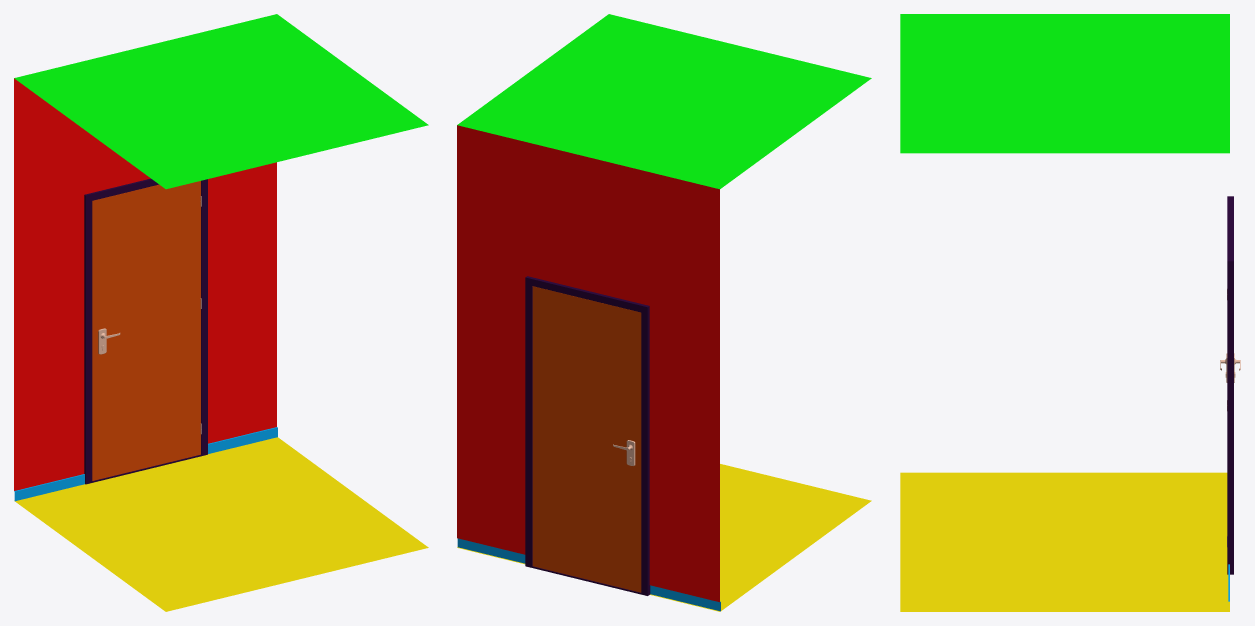
Rendered from SM_Door_Frame_A.FBX.
3 renders of one model, left to right at view 1: azimuth 30°, elevation 25°; view 2: azimuth 150°, elevation 25°; view 3: azimuth 270°, elevation 25°, orthographic. The views are drawn at different scales.
Visible parts, largest first — view 1: SM_Door_Frame_A, SM_Door_A; view 2: SM_Door_Frame_A, SM_Door_A; view 3: SM_Door_Frame_A.
Part boxes in pixels (x1,y1,x2,y2): SM_Door_Frame_A: [14, 14, 428, 611]; SM_Door_A: [92, 181, 201, 480]; SM_Door_Frame_A: [457, 14, 871, 611]; SM_Door_A: [532, 286, 641, 592]; SM_Door_Frame_A: [900, 14, 1233, 611].
Bounding box in the file's own units: 2 × 3.07 × 2.07.
